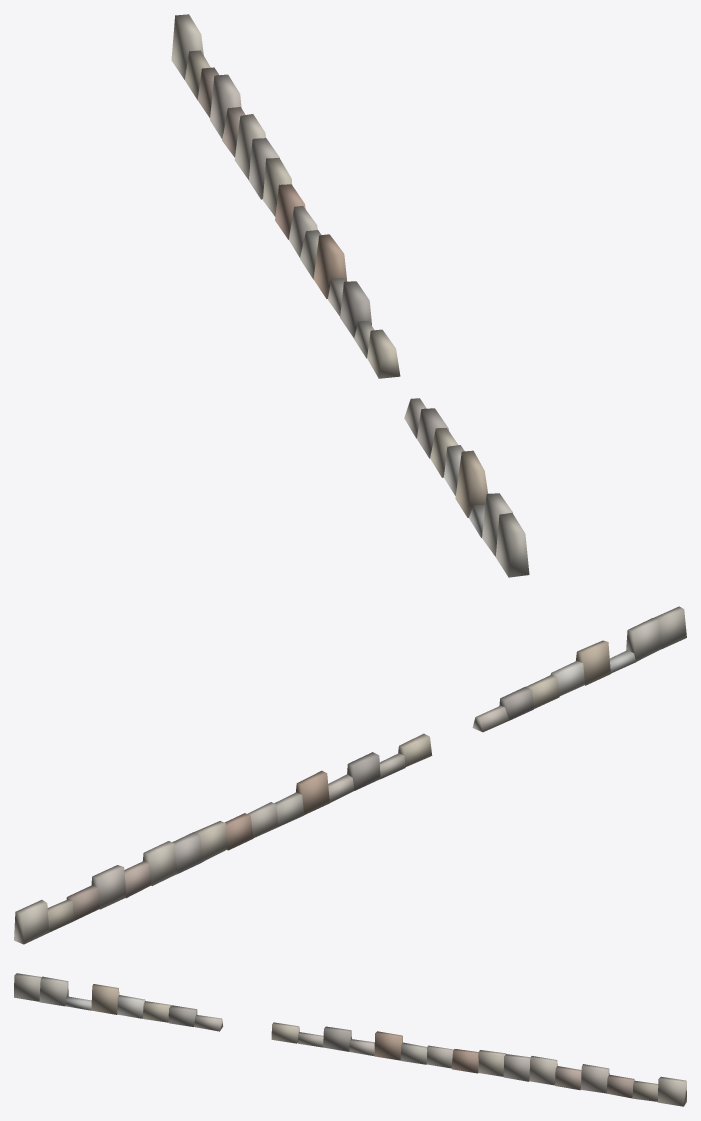
File: farm_-32_-31_far.glb
The picture shows the model from 3 angles, top to bottom: view 1: azimuth 30°, elevation 25°; view 2: azimuth 150°, elevation 25°; view 3: azimuth 270°, elevation 25°; orthographic projection. The views are drawn at different scales.
Parts seen in each view (by area): view 1: geometry_0; view 2: geometry_0; view 3: geometry_0.
Boxes of the visible parts, x1=… form: geometry_0: x1=171, y1=14, x2=529, y2=577; geometry_0: x1=14, y1=606, x2=686, y2=944; geometry_0: x1=14, y1=973, x2=686, y2=1106.
Size of the model in its own units: 12.1 by 3.22 by 40.16.
